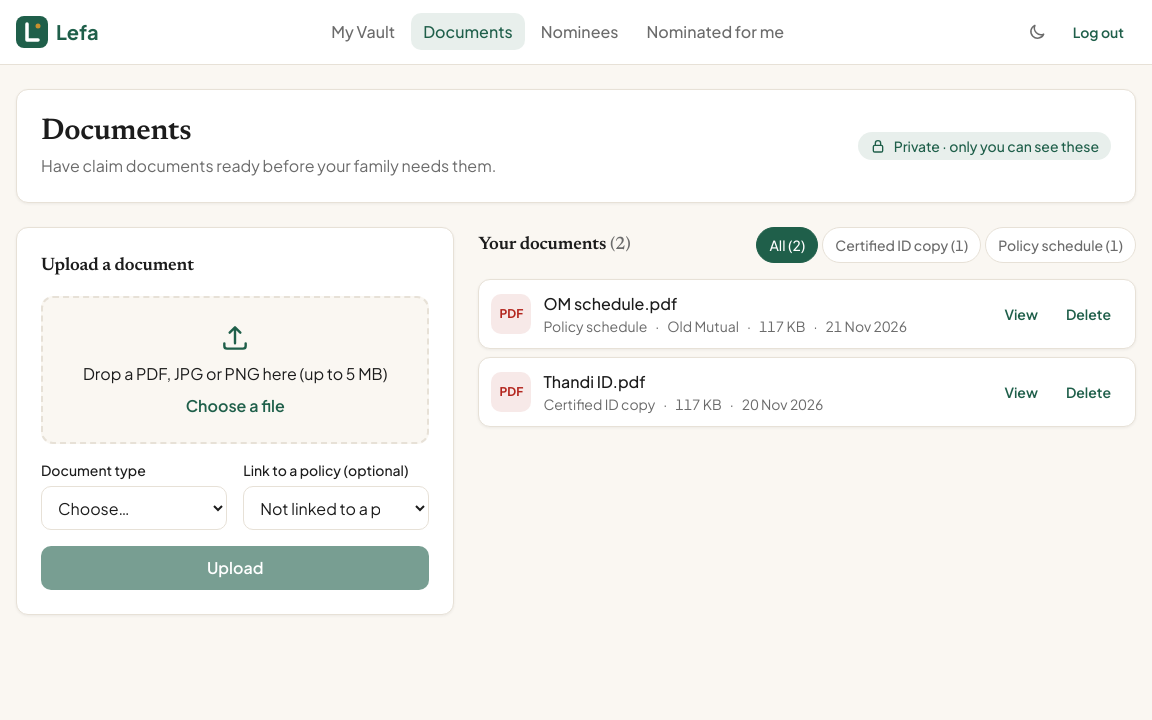
Documents page (S6) › filter chips narrow the list by type
expect the list item "Thandi ID.pdf" is shown: met, box [478, 357, 1136, 427]
Click the button "Certified ID copy (1)" at (902, 245), box [822, 227, 981, 263]
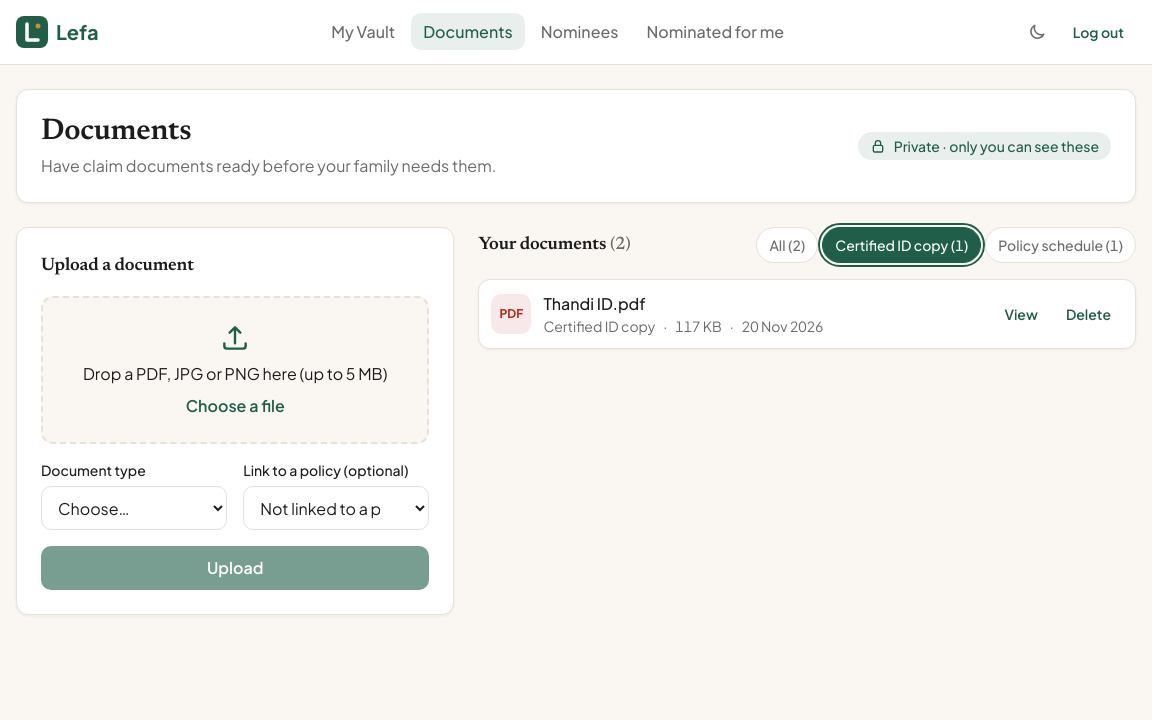
expect the list item "Thandi ID.pdf" is shown: met, box [478, 279, 1136, 349]
expect the text "OM schedule.pdf" is gone: met
